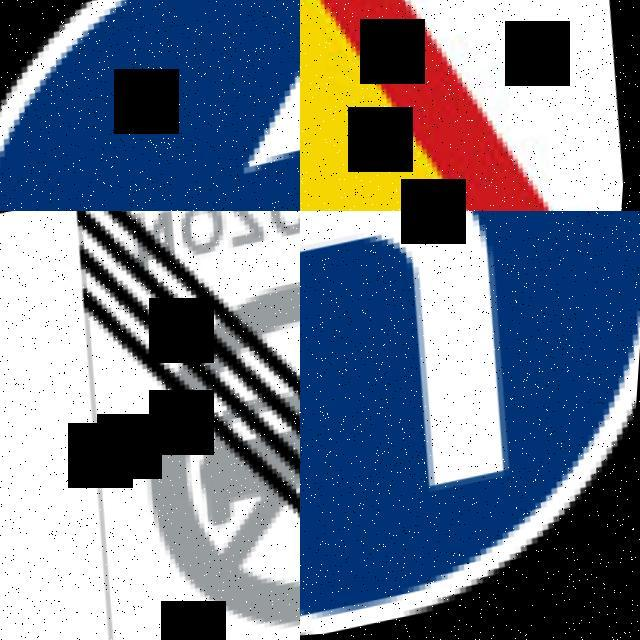110: (39, 211, 300, 640)
Direction to be followed: (0, 0, 300, 211)
Turn right ahead: (300, 211, 640, 640)
Uneven road: (300, 0, 640, 211)
